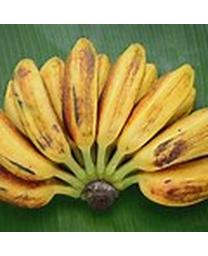banana: (0, 36, 207, 211)
